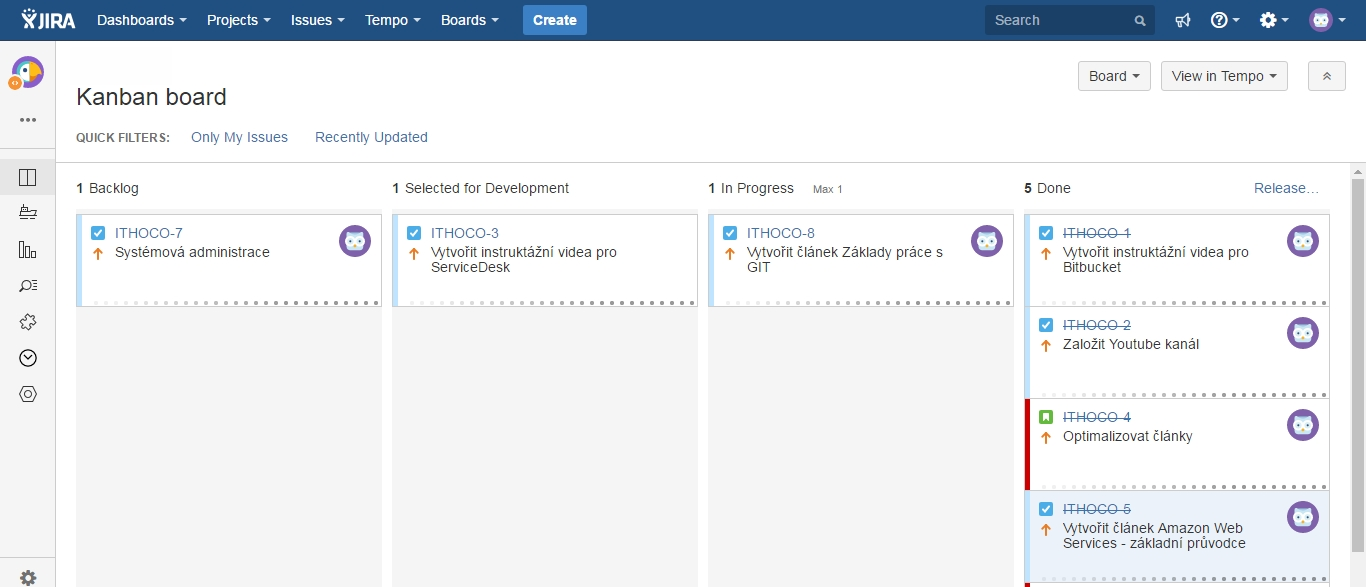button: (1351, 177, 1365, 553), (1160, 60, 1288, 91), (1078, 60, 1151, 91), (523, 4, 587, 36), (1, 159, 56, 196), (312, 129, 430, 146), (17, 4, 79, 35), (188, 129, 289, 148), (94, 11, 191, 29), (1251, 177, 1325, 197), (1060, 224, 1134, 241), (204, 11, 273, 29), (112, 224, 189, 240), (286, 11, 347, 31), (1307, 61, 1346, 92), (361, 10, 423, 29), (1306, 6, 1348, 34), (438, 11, 501, 29), (429, 226, 500, 241), (745, 225, 816, 240), (1061, 319, 1132, 332), (1061, 502, 1132, 515), (1062, 411, 1132, 423), (1207, 9, 1242, 31), (1257, 9, 1291, 31), (1172, 10, 1193, 31), (18, 202, 39, 222), (17, 240, 38, 260), (18, 311, 38, 332), (18, 384, 38, 404), (18, 567, 39, 586), (19, 348, 38, 367), (16, 112, 40, 127), (18, 277, 39, 294), (1350, 163, 1366, 178), (1132, 14, 1148, 28)
common: (746, 244, 944, 274), (429, 245, 618, 275), (1062, 520, 1248, 550), (1060, 245, 1251, 274), (112, 244, 272, 260), (1062, 336, 1202, 351), (1062, 429, 1193, 445), (74, 129, 171, 146), (811, 181, 846, 196)
container: (55, 163, 1366, 587), (56, 42, 1366, 161), (74, 211, 382, 587), (1024, 212, 1332, 587), (707, 214, 1014, 587), (392, 213, 697, 587), (1, 1, 1366, 43), (1, 40, 56, 587), (76, 213, 382, 307), (391, 214, 698, 307), (708, 214, 1014, 307), (1024, 214, 1330, 307), (1024, 398, 1329, 491), (1024, 491, 1330, 583), (1024, 307, 1330, 398), (1, 147, 56, 557), (1350, 162, 1366, 587), (1, 40, 56, 148), (1, 556, 56, 587)
header: (74, 85, 230, 110), (390, 178, 573, 198), (705, 178, 797, 198), (73, 178, 142, 199), (1020, 176, 1075, 199)
image: (7, 54, 46, 93), (338, 224, 372, 258), (970, 224, 1004, 258), (1286, 224, 1320, 258), (1286, 316, 1320, 350), (1286, 500, 1320, 534), (1287, 408, 1320, 441), (1038, 317, 1055, 333), (1038, 409, 1055, 425), (90, 225, 106, 241), (406, 225, 422, 241), (1038, 225, 1054, 241), (1038, 501, 1054, 517), (722, 225, 737, 241), (1039, 247, 1053, 262), (407, 246, 420, 261), (1039, 338, 1052, 353), (723, 247, 736, 260), (92, 247, 104, 261), (1040, 431, 1052, 445), (1040, 524, 1052, 537)
text-input: (984, 6, 1156, 34)
